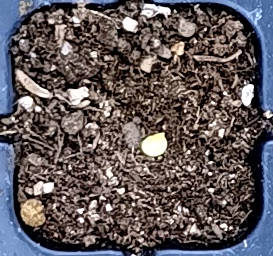chilli seed: (140, 132, 167, 157)
